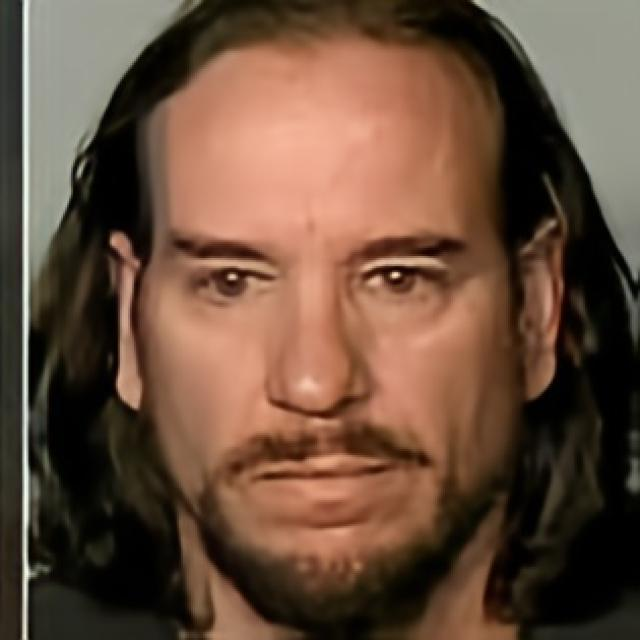neutral: (138, 26, 520, 632)
